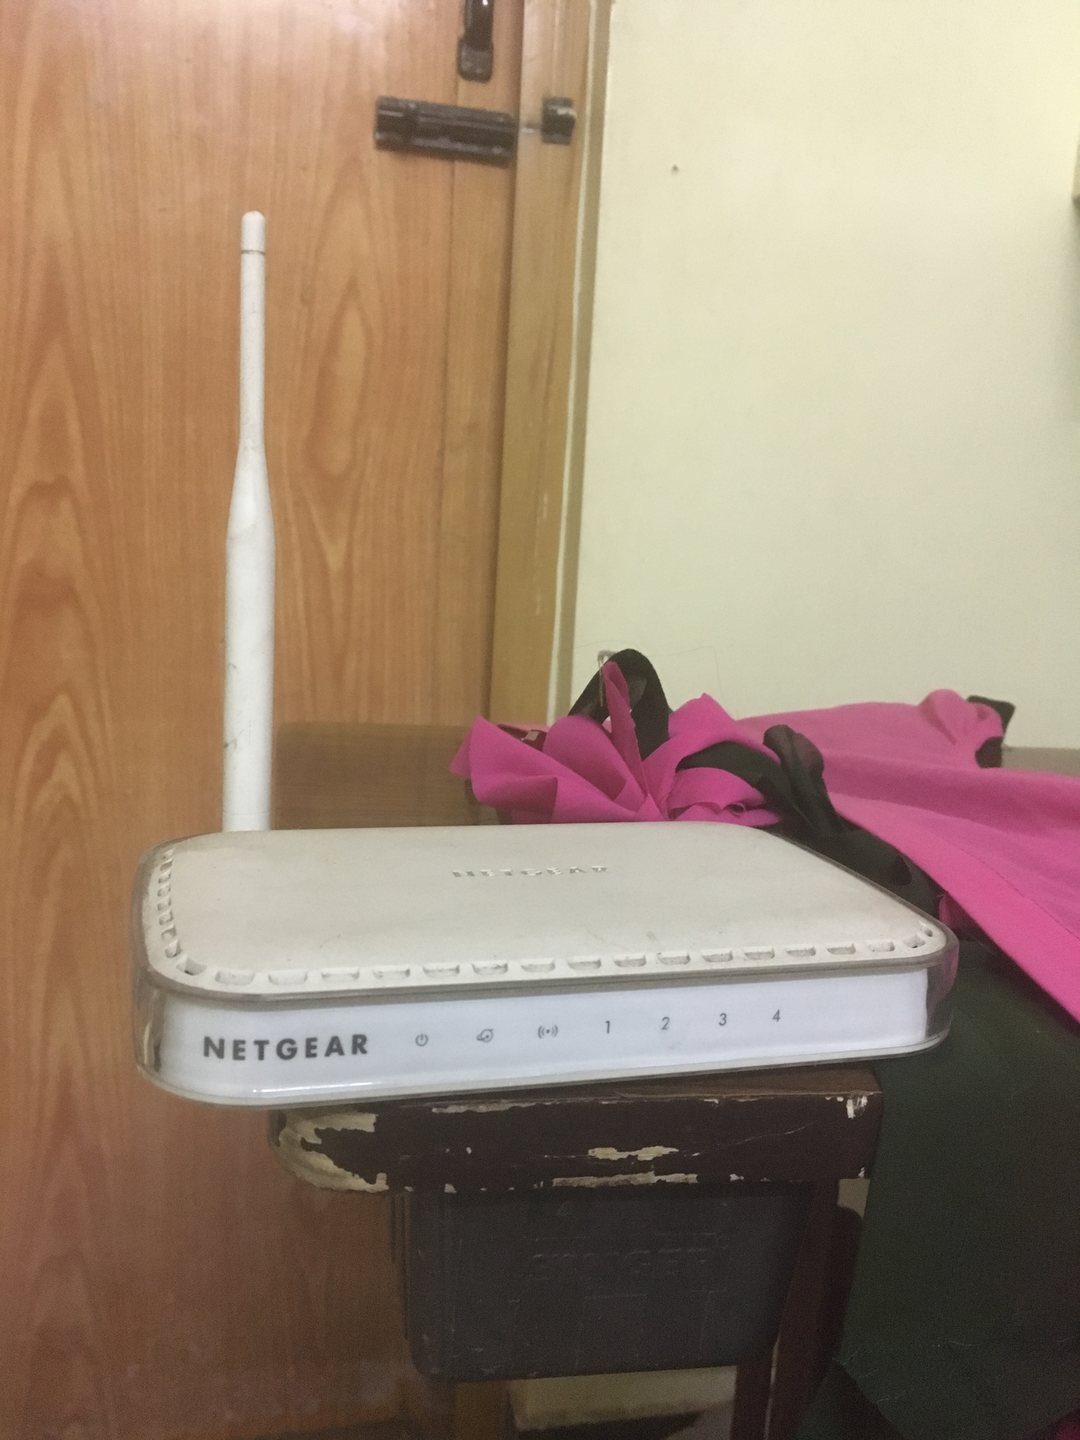NETGEAR: (195, 1025, 381, 1067)
modem: (154, 956, 954, 1091)
